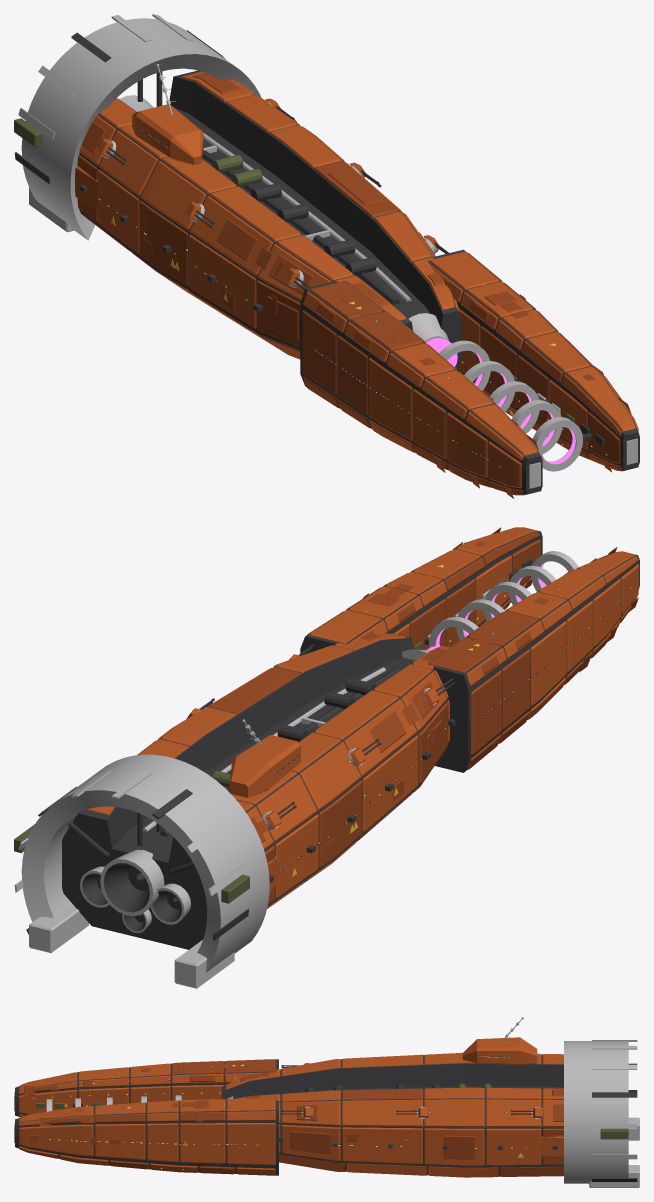
Rendered from enemy_dreadnought.glb.
The picture shows the model from 3 angles, top to bottom: view 1: azimuth 30°, elevation 25°; view 2: azimuth 150°, elevation 25°; view 3: azimuth 270°, elevation 25°; orthographic projection. The views are drawn at different scales.
Parts seen in each view (by area): view 1: enemy_dreadnought; view 2: enemy_dreadnought; view 3: enemy_dreadnought.
Boxes of the visible parts, x1,y1,x2,y2 form: enemy_dreadnought: (14,14,639,498); enemy_dreadnought: (14,527,639,988); enemy_dreadnought: (14,1017,639,1187).
Size of the model in its own units: 115 by 103 by 436.
